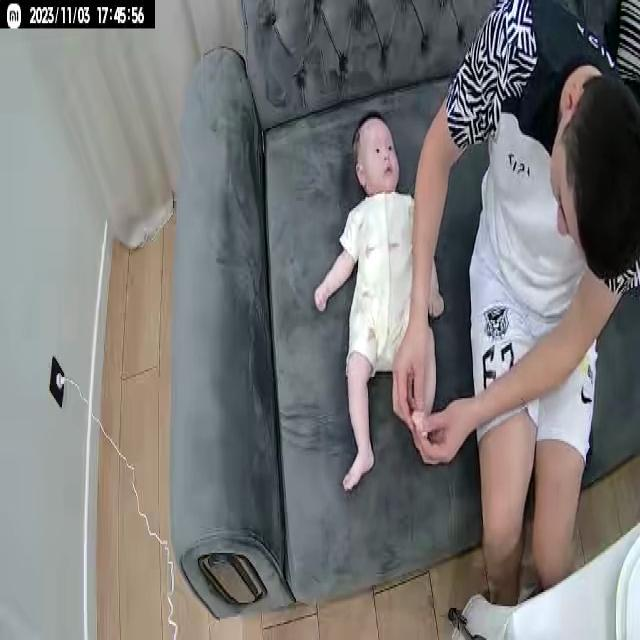baby: (312, 112, 447, 497)
